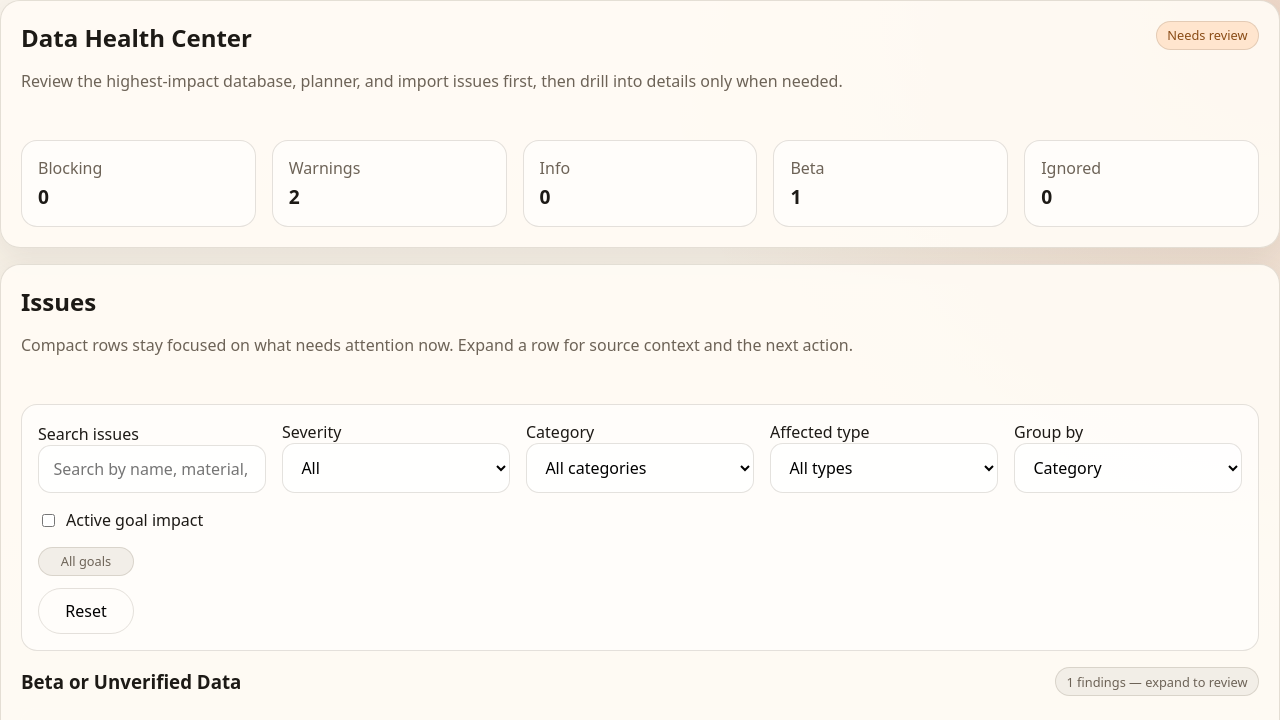
Test: DataHealthCenter › shows the active-goal empty state when nothing active is affected
The image size is (1280, 720).
Click the checkbox labelled "Active goal impact": coordinates (48, 520) [42,514,55,526]
(page scrolled)
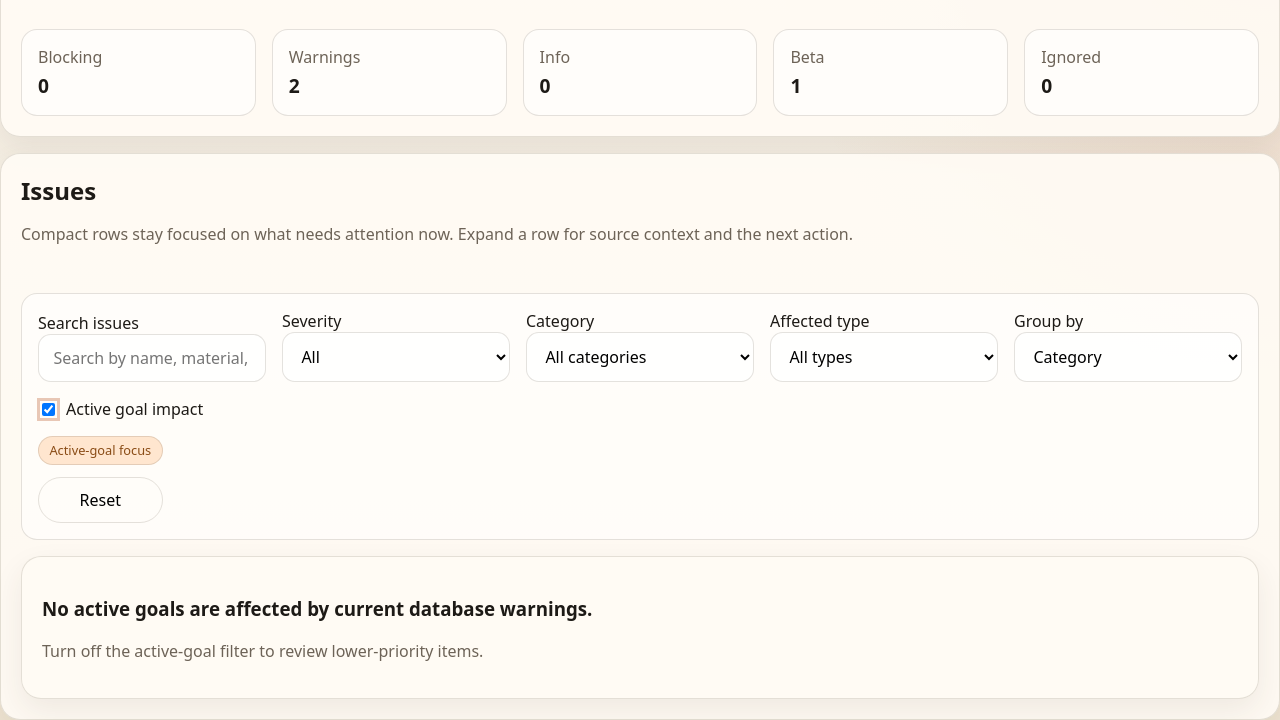
Expected: the heading "No active goals are affected by current database warnings." is shown, [42,596,592,621]
